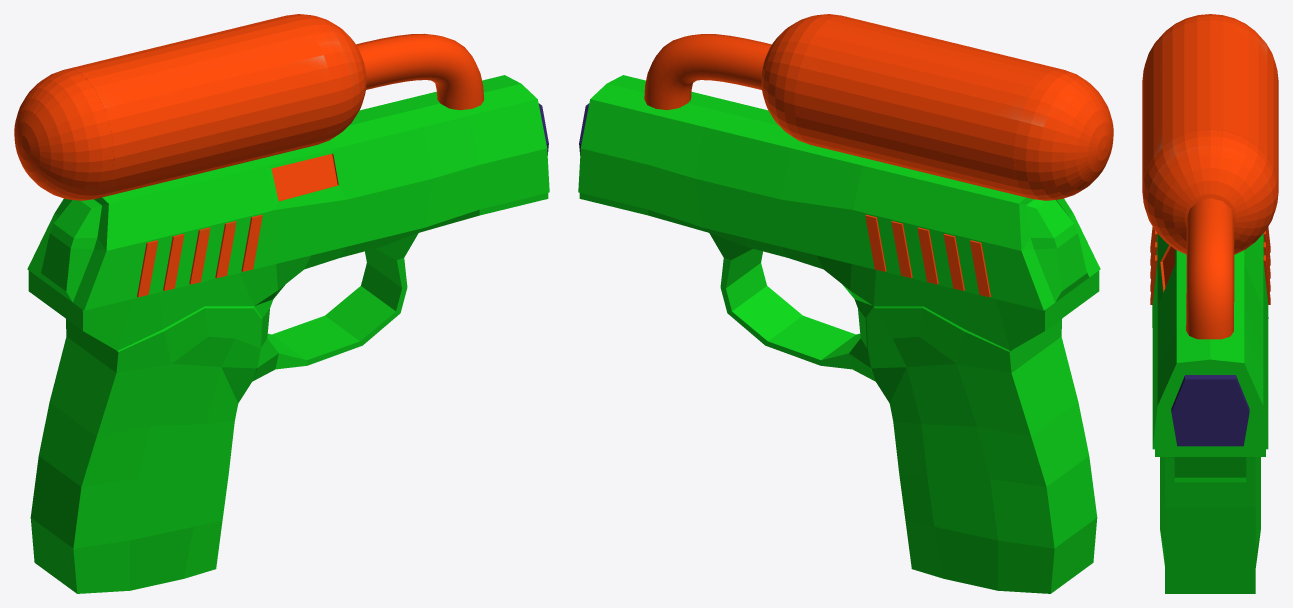
Rendered from Pistol.fbx.
3 renders of one model, left to right at view 1: azimuth 30°, elevation 25°; view 2: azimuth 150°, elevation 25°; view 3: azimuth 270°, elevation 25°, orthographic. The views are drawn at different scales.
Parts seen in each view (by area): view 1: Pistolet, Cylinder, BezierCurve; view 2: Pistolet, Cylinder, BezierCurve; view 3: Pistolet, Cylinder, BezierCurve.
Part boxes in pixels (<box>): Pistolet: <box>27,75,549,593</box>; Cylinder: <box>14,14,366,200</box>; BezierCurve: <box>356,33,484,110</box>; Pistolet: <box>578,75,1100,593</box>; Cylinder: <box>761,14,1113,200</box>; BezierCurve: <box>644,34,771,110</box>; Pistolet: <box>1150,227,1270,593</box>; Cylinder: <box>1142,14,1278,254</box>; BezierCurve: <box>1186,198,1234,339</box>.
Size of the model in its own units: 100 by 96.17 by 22.86.
Materials: 3 (2 with a texture image).
